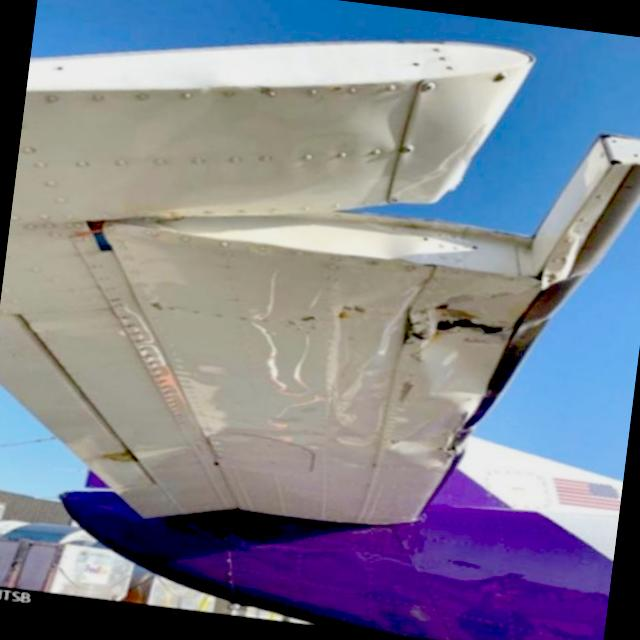dent: (387, 420, 458, 476)
